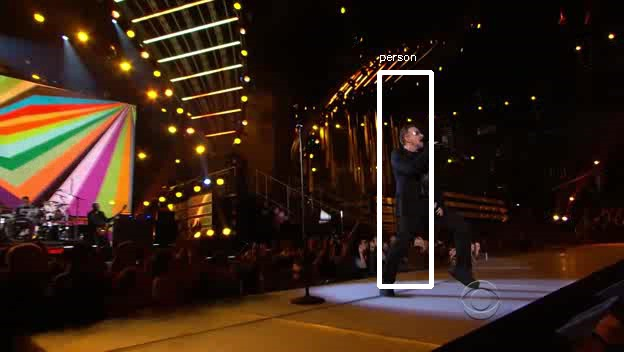person: (388, 129, 451, 242), (385, 129, 448, 242), (391, 129, 454, 242), (388, 126, 451, 239), (388, 132, 451, 245)
target_negative: (87, 225, 316, 275), (144, 240, 243, 299), (489, 79, 567, 124), (456, 284, 569, 305), (560, 33, 569, 277), (611, 18, 617, 307)
